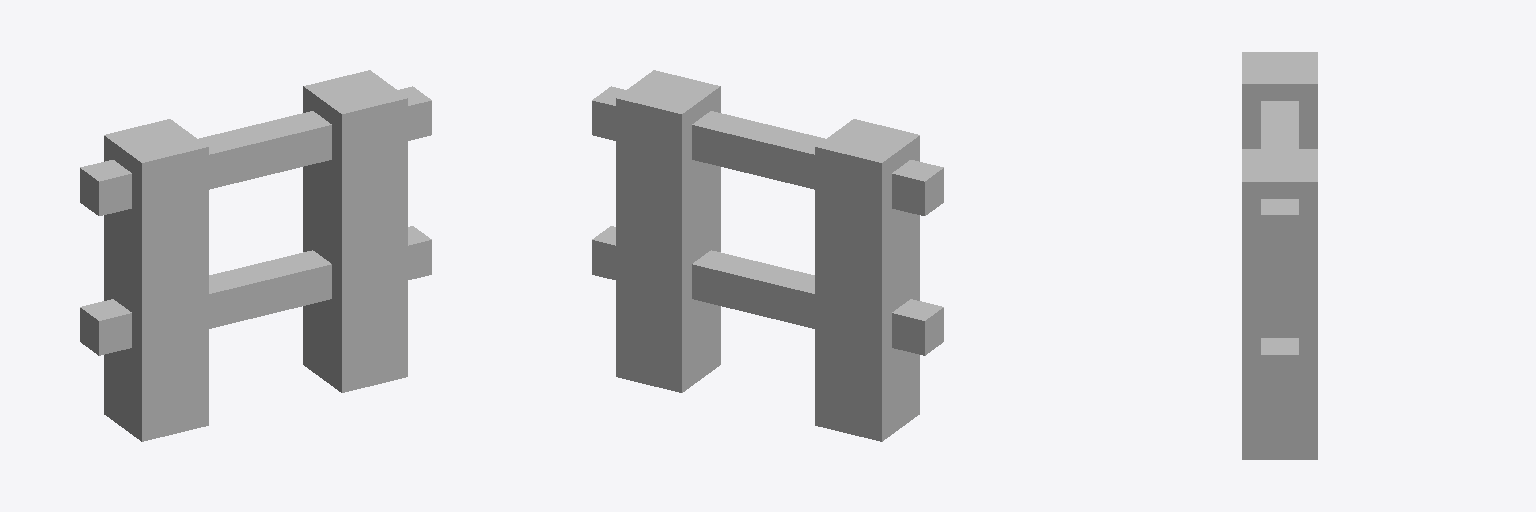
Rendered from fence.obj.
3 views of the same model, side by side, from view 1: azimuth 30°, elevation 25°; view 2: azimuth 150°, elevation 25°; view 3: azimuth 270°, elevation 25° (orthographic).
Visible parts, largest first — view 1: Сетка; view 2: Сетка; view 3: Сетка.
Part boxes in pixels (x1,y1,x2,y2): Сетка: (80, 70, 431, 441); Сетка: (592, 70, 943, 441); Сетка: (1242, 52, 1317, 459).
Bounding box in the file's own units: 2 × 1.6 × 0.4.